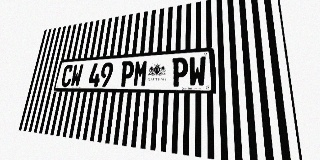4: (88, 63, 102, 87)
9: (99, 62, 114, 87)
C: (60, 65, 74, 87)
M: (133, 60, 148, 87)
P: (171, 57, 188, 87), (119, 61, 135, 87)
W: (188, 56, 206, 87), (70, 64, 84, 87)
